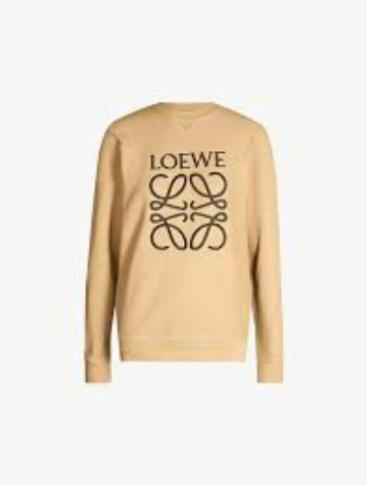LOEWE: (144, 142, 237, 263)
